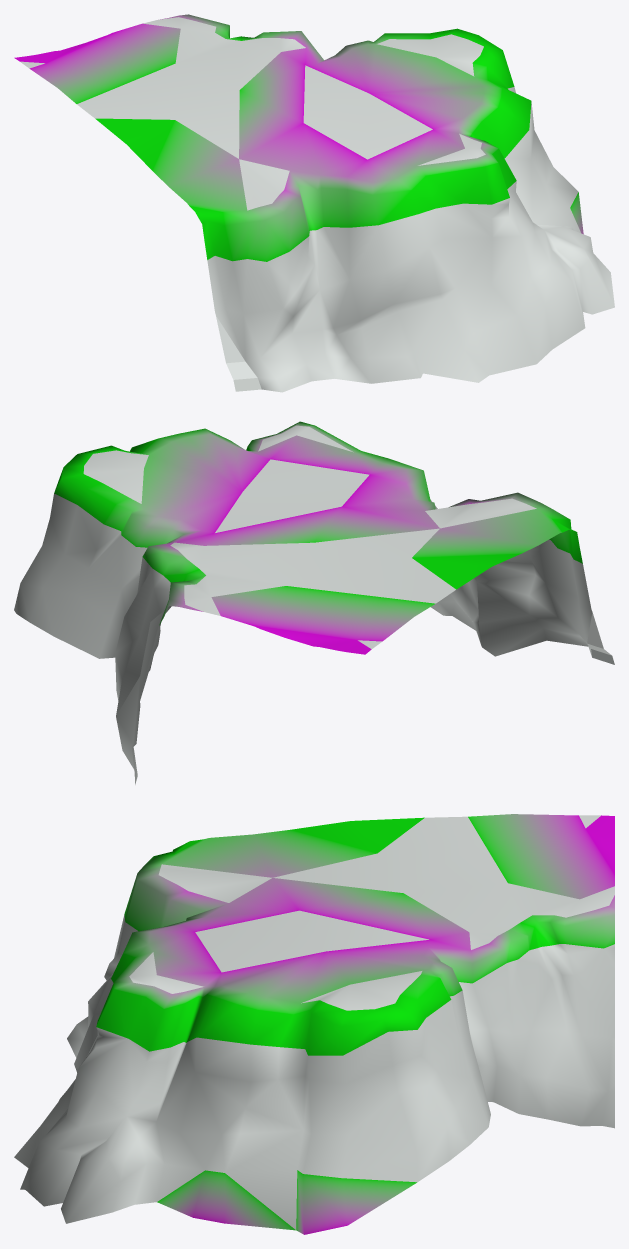
The picture shows the model from 3 angles, top to bottom: view 1: azimuth 30°, elevation 25°; view 2: azimuth 150°, elevation 25°; view 3: azimuth 270°, elevation 25°; orthographic projection. The views are drawn at different scales.
Visible parts, largest first — view 1: G:\FFXIV-MapTools\exports\f1f1\bg\ffxiv\fst_f1\fld\f1f1\bgpl (×6); view 2: G:\FFXIV-MapTools\exports\f1f1\bg\ffxiv\fst_f1\fld\f1f1\bgpl (×6); view 3: G:\FFXIV-MapTools\exports\f1f1\bg\ffxiv\fst_f1\fld\f1f1\bgpl (×6).
Part boxes in pixels (x1,y1,x2,y2): G:\FFXIV-MapTools\exports\f1f1\bg\ffxiv\fst_f1\fld\f1f1\bgpl (×6): (14, 14, 614, 392); G:\FFXIV-MapTools\exports\f1f1\bg\ffxiv\fst_f1\fld\f1f1\bgpl (×6): (14, 421, 614, 784); G:\FFXIV-MapTools\exports\f1f1\bg\ffxiv\fst_f1\fld\f1f1\bgpl (×6): (14, 814, 614, 1234).
Size of the model in its own units: 78.84 by 35.57 by 83.33.
